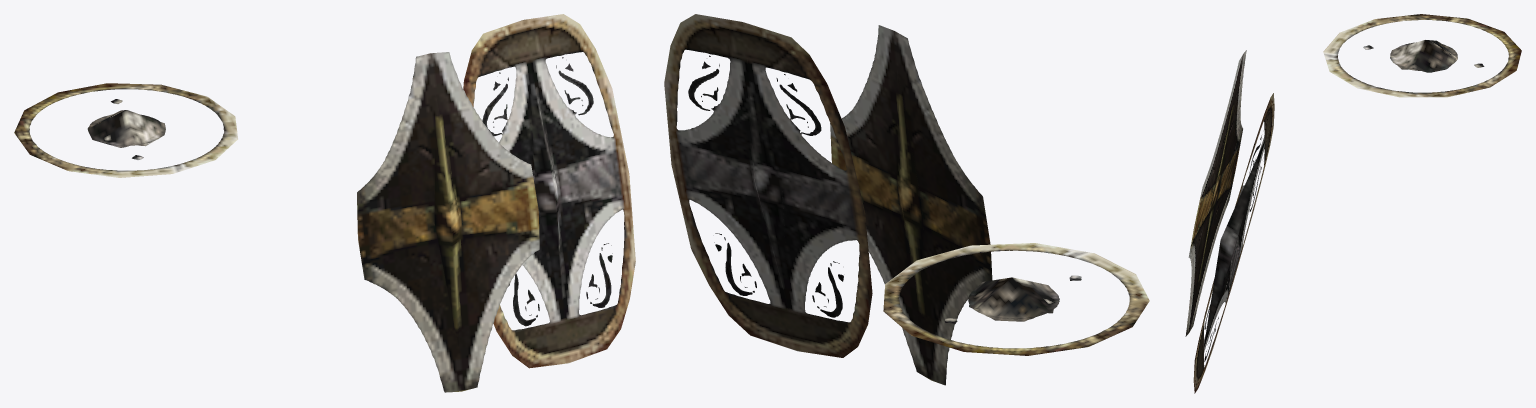
The model's file is eyecandy_iber_weapons_table_shields.dae.
The picture shows the model from 3 angles, left to right: view 1: azimuth 30°, elevation 25°; view 2: azimuth 150°, elevation 25°; view 3: azimuth 270°, elevation 25°; orthographic projection. The views are drawn at different scales.
Parts seen in each view (by area): view 1: towershield04; view 2: towershield04; view 3: towershield04.
Boxes of the visible parts, left/top/right/bottom form: towershield04: left=14, top=14, right=635, bottom=392; towershield04: left=664, top=14, right=1149, bottom=385; towershield04: left=1185, top=14, right=1521, bottom=393.
Size of the model in its own units: 4.3 by 2.94 by 2.64.
